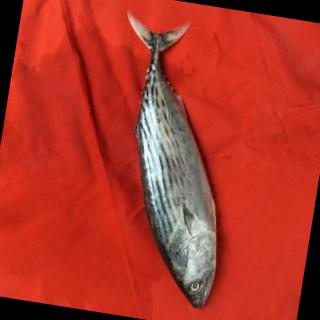Ikan: (75, 3, 269, 320)
